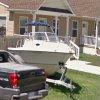Boat: (10, 21, 74, 81)
